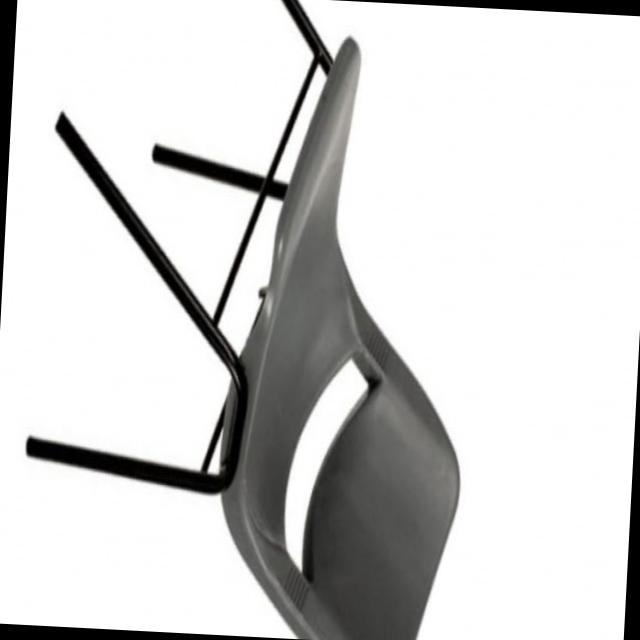Chair: (10, 0, 487, 640)
